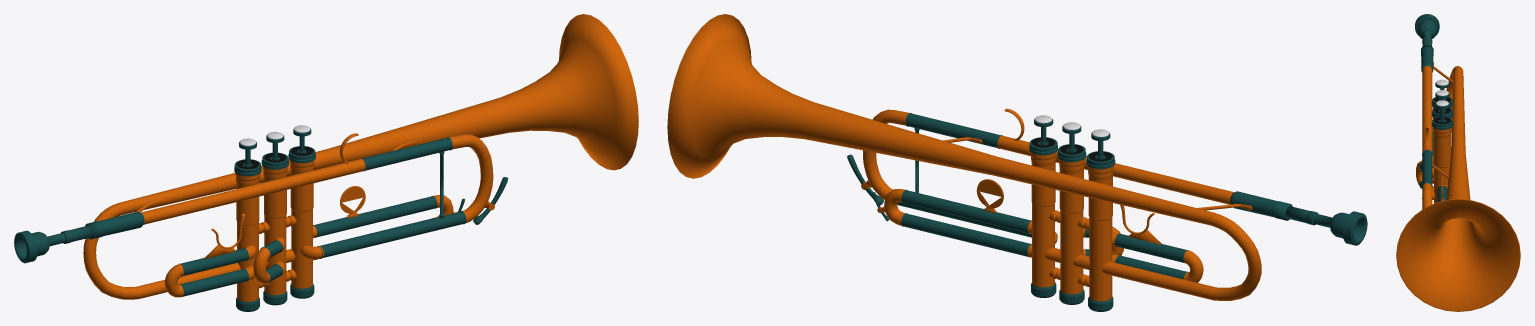
The model's file is Trumpet.obj.
The picture shows the model from 3 angles, left to right: view 1: azimuth 30°, elevation 25°; view 2: azimuth 150°, elevation 25°; view 3: azimuth 270°, elevation 25°; orthographic projection. The views are drawn at different scales.
Parts seen in each view (by area): view 1: Cylinder, Cylinder.001, Cylinder.005, Cylinder.006, Cylinder.014, Cylinder.003, Cylinder.034, Cylinder.002, Cylinder.013, Cylinder.008, Cylinder.004; view 2: Cylinder, Cylinder.001, Cylinder.006, Cylinder.005, Cylinder.014, Cylinder.034, Cylinder.002, Cylinder.008, Cylinder.013, Cylinder.004; view 3: Cylinder, Cylinder.014, Cylinder.002, Cylinder.001, Cylinder.034, Cylinder.033, Cylinder.004, Cylinder.003, Cylinder.037, Cylinder.006, Cylinder.015, Cylinder.029 (+1 smaller).
Part boxes in pixels (left/top/right/bottom): Cylinder: left=83, top=14, right=638, bottom=299; Cylinder.001: left=236, top=163, right=313, bottom=301; Cylinder.005: left=164, top=245, right=256, bottom=297; Cylinder.006: left=313, top=195, right=453, bottom=260; Cylinder.014: left=236, top=170, right=313, bottom=224; Cylinder.003: left=253, top=237, right=285, bottom=283; Cylinder.034: left=85, top=211, right=142, bottom=239; Cylinder.002: left=19, top=230, right=65, bottom=262; Cylinder.013: left=236, top=287, right=314, bottom=310; Cylinder.008: left=340, top=186, right=365, bottom=217; Cylinder.004: left=237, top=147, right=313, bottom=169; Cylinder: left=667, top=14, right=1261, bottom=300; Cylinder.001: left=1031, top=155, right=1113, bottom=301; Cylinder.006: left=884, top=189, right=1032, bottom=257; Cylinder.005: left=1112, top=232, right=1203, bottom=282; Cylinder.014: left=1031, top=163, right=1112, bottom=220; Cylinder.034: left=1231, top=191, right=1292, bottom=220; Cylinder.002: left=1313, top=211, right=1361, bottom=245; Cylinder.008: left=976, top=179, right=1003, bottom=212; Cylinder.013: left=1031, top=286, right=1113, bottom=310; Cylinder.004: left=1032, top=138, right=1112, bottom=161; Cylinder: left=1396, top=66, right=1520, bottom=311; Cylinder.014: left=1433, top=135, right=1451, bottom=167; Cylinder.002: left=1415, top=14, right=1439, bottom=38; Cylinder.001: left=1433, top=130, right=1451, bottom=203; Cylinder.034: left=1421, top=44, right=1433, bottom=67; Cylinder.033: left=1435, top=79, right=1449, bottom=106; Cylinder.004: left=1433, top=98, right=1450, bottom=124; Cylinder.003: left=1416, top=160, right=1433, bottom=189; Cylinder.037: left=1415, top=17, right=1439, bottom=35; Cylinder.006: left=1437, top=184, right=1447, bottom=202; Cylinder.015: left=1431, top=97, right=1453, bottom=117; Cylinder.029: left=1435, top=84, right=1449, bottom=108.
Size of the model in its own units: 8.93 by 2.74 by 2.07.
